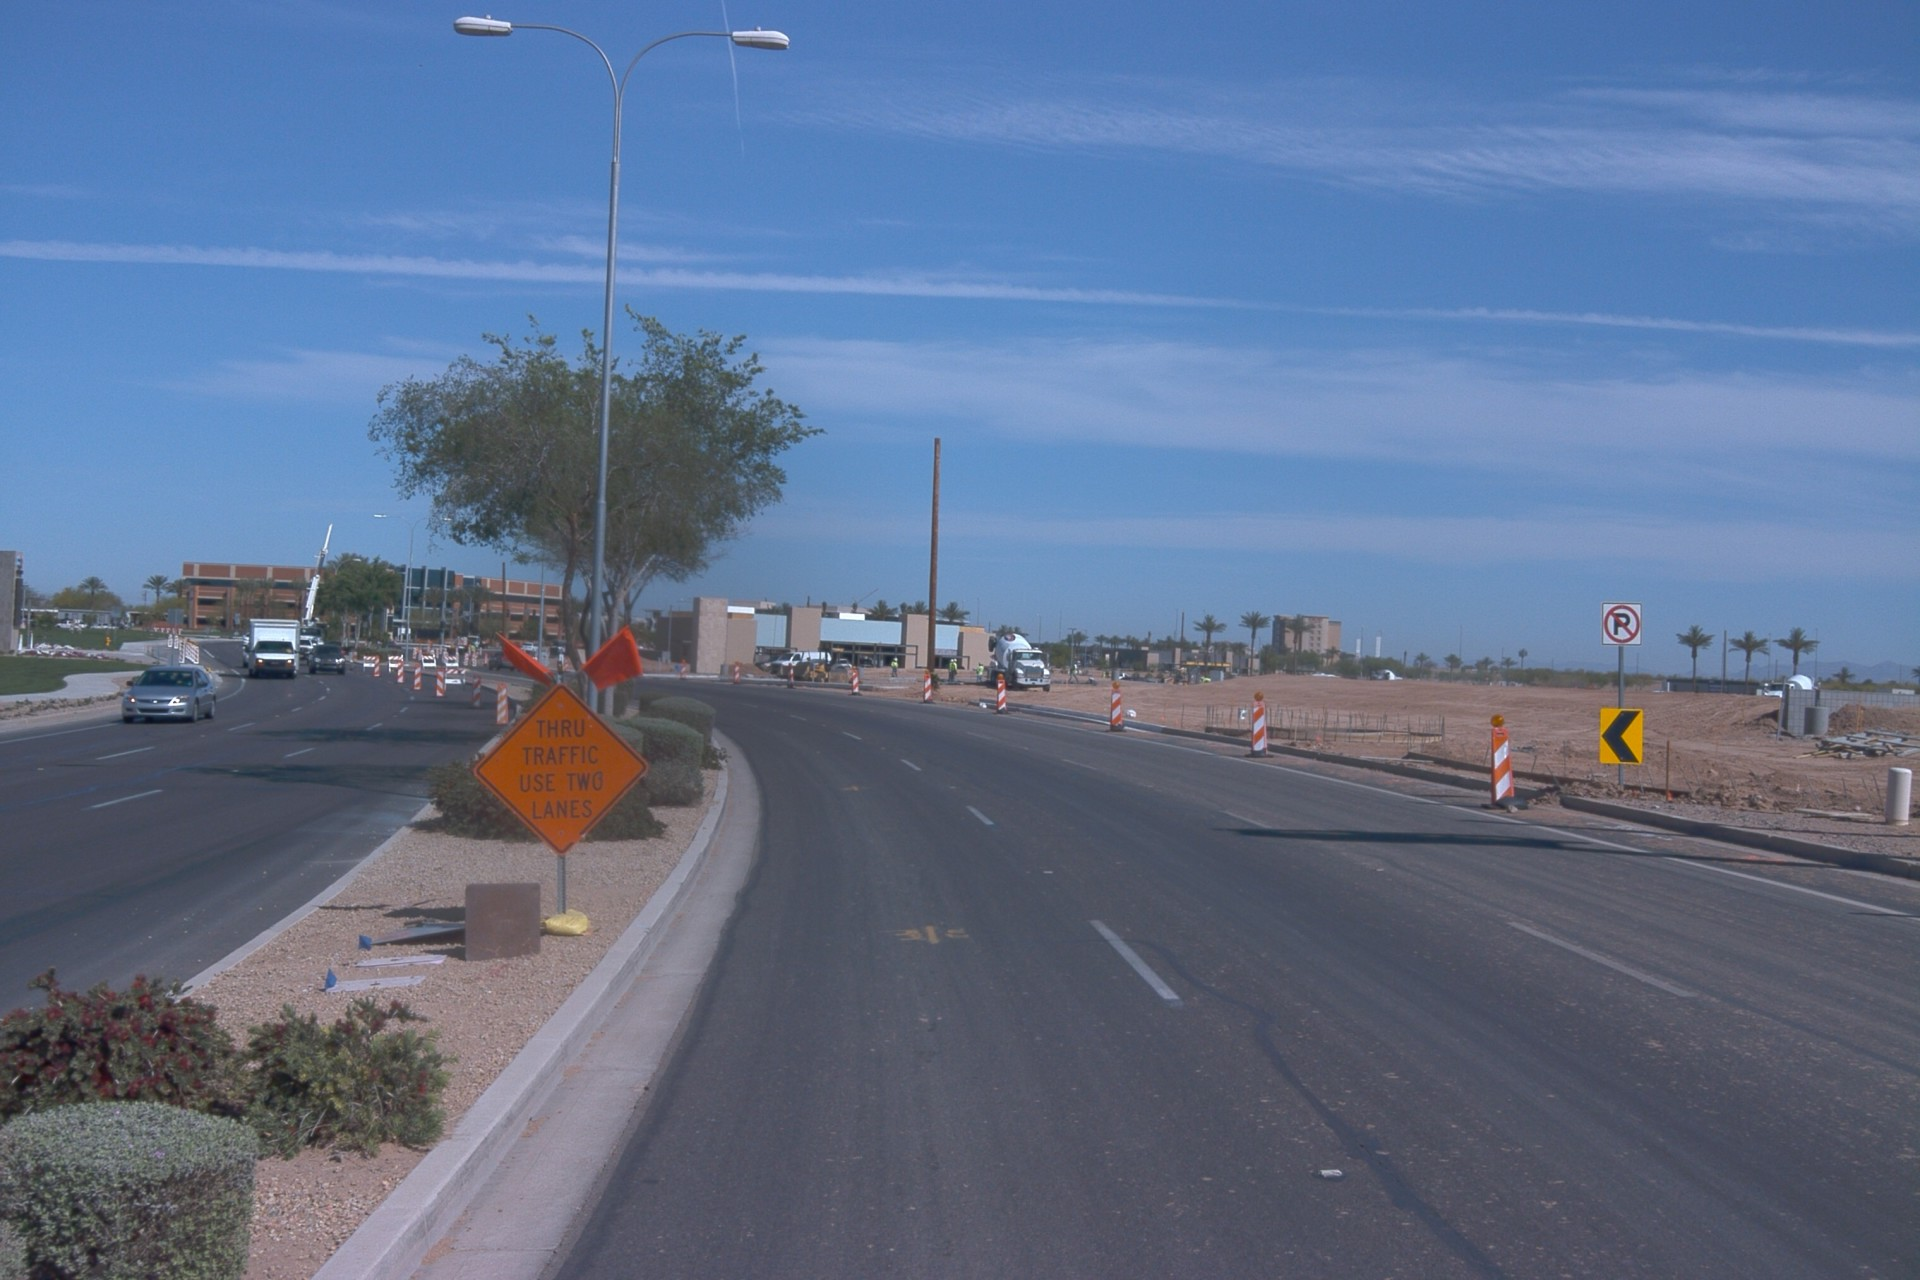TYPE_PEDESTRIAN: (972, 662, 984, 685), (950, 657, 959, 685), (1066, 664, 1078, 684), (891, 656, 899, 678), (947, 659, 954, 682)
TYPE_VEHICLE: (252, 516, 336, 678), (123, 665, 219, 726), (245, 617, 303, 679), (1760, 670, 1821, 703), (305, 643, 345, 675), (771, 650, 833, 669), (1160, 665, 1202, 686), (488, 648, 519, 672), (753, 656, 784, 676), (54, 617, 91, 633), (238, 638, 254, 669), (296, 635, 322, 654), (837, 654, 857, 669), (235, 631, 252, 647), (1310, 673, 1344, 680), (520, 643, 540, 654), (942, 665, 967, 671), (1651, 689, 1674, 695), (986, 660, 998, 671), (1118, 671, 1131, 681), (914, 666, 927, 671)
